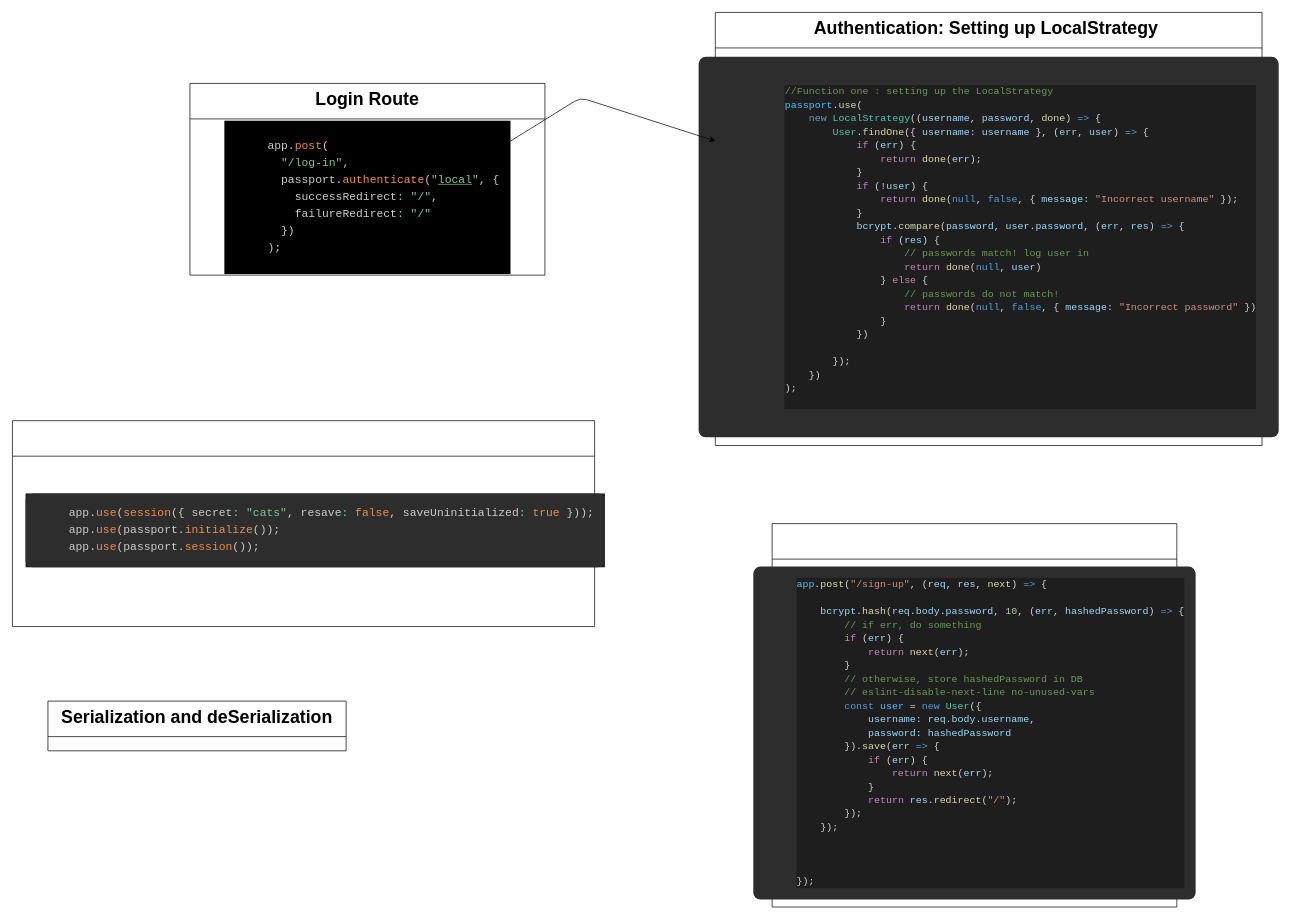
Some shapes in this 1291 by 919 pixel diagram are drawn without their labels. Here are the shapes that lost their labels. From the top down, the box of each, then its label:
(12, 420, 595, 627): Middleware Setup
(771, 523, 1177, 907): Create New User And Hash Password
